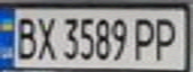3: (57, 12, 81, 61)
5: (78, 14, 96, 62)
8: (93, 15, 115, 61)
9: (109, 15, 133, 62)
B: (9, 12, 39, 61)
P: (151, 14, 184, 62), (130, 14, 160, 62)
X: (33, 12, 60, 61)
